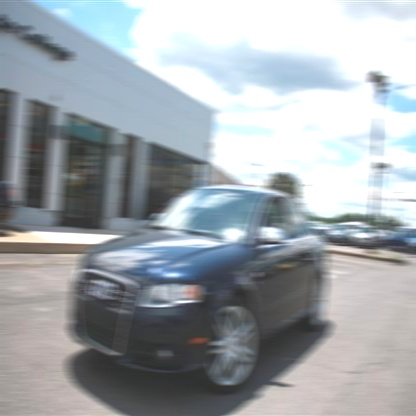Vehicle: (69, 183, 331, 396)
